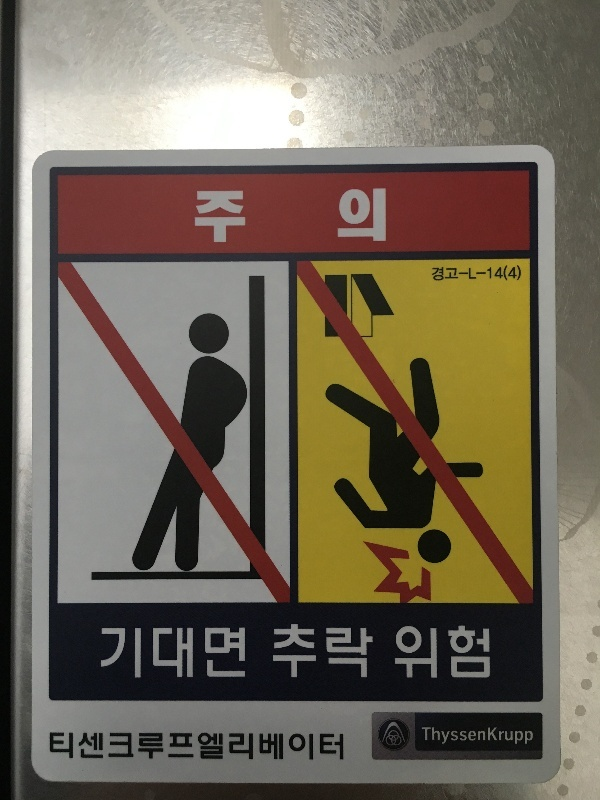text: (353, 185, 368, 249), (369, 185, 384, 249), (209, 186, 224, 249), (225, 186, 240, 249), (401, 624, 416, 683), (417, 624, 432, 683), (433, 624, 448, 683), (449, 624, 464, 683), (465, 624, 480, 683), (289, 624, 304, 682), (305, 624, 320, 682), (321, 624, 336, 682), (337, 624, 352, 682), (353, 624, 368, 682), (113, 625, 128, 682), (129, 625, 144, 682), (145, 625, 160, 682), (161, 625, 176, 682), (177, 625, 192, 682), (193, 625, 208, 682), (209, 625, 224, 682), (225, 625, 240, 682), (339, 185, 352, 249), (195, 186, 208, 249), (274, 624, 288, 682), (481, 624, 492, 683), (101, 625, 112, 682), (49, 730, 64, 764), (65, 730, 80, 764), (81, 730, 96, 764), (97, 730, 112, 764), (113, 730, 128, 764), (129, 730, 144, 764), (145, 730, 160, 764), (161, 730, 176, 764), (177, 730, 192, 764), (193, 730, 208, 764), (209, 730, 224, 764), (225, 730, 240, 764), (241, 730, 256, 764), (257, 730, 272, 764), (273, 730, 288, 764), (289, 730, 304, 764), (305, 730, 320, 764), (321, 730, 336, 764), (241, 186, 247, 249), (433, 726, 448, 748), (449, 726, 464, 748), (465, 726, 480, 748), (481, 726, 496, 748), (497, 726, 512, 748), (513, 726, 528, 748), (395, 624, 400, 683), (369, 624, 374, 682), (433, 264, 448, 283), (449, 264, 464, 283), (465, 264, 480, 283), (481, 264, 496, 283), (497, 264, 512, 283), (241, 625, 246, 682), (337, 730, 345, 764), (421, 726, 432, 748), (385, 185, 388, 249), (513, 264, 521, 283), (529, 726, 534, 748)
